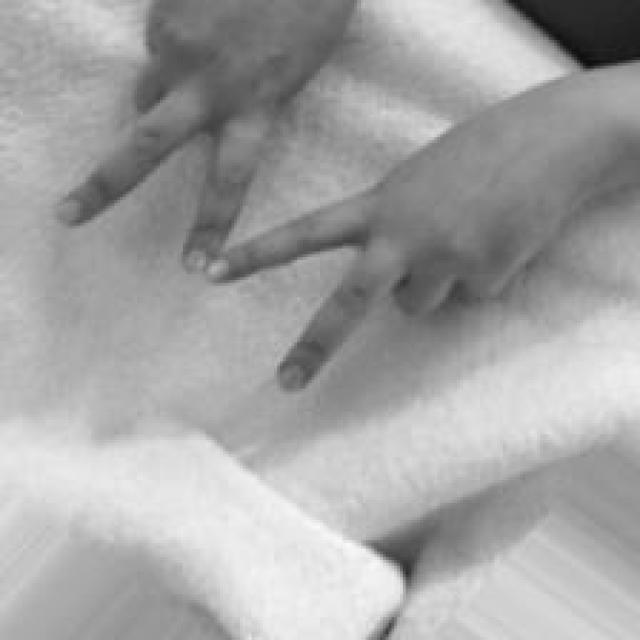M: (48, 0, 640, 395)
